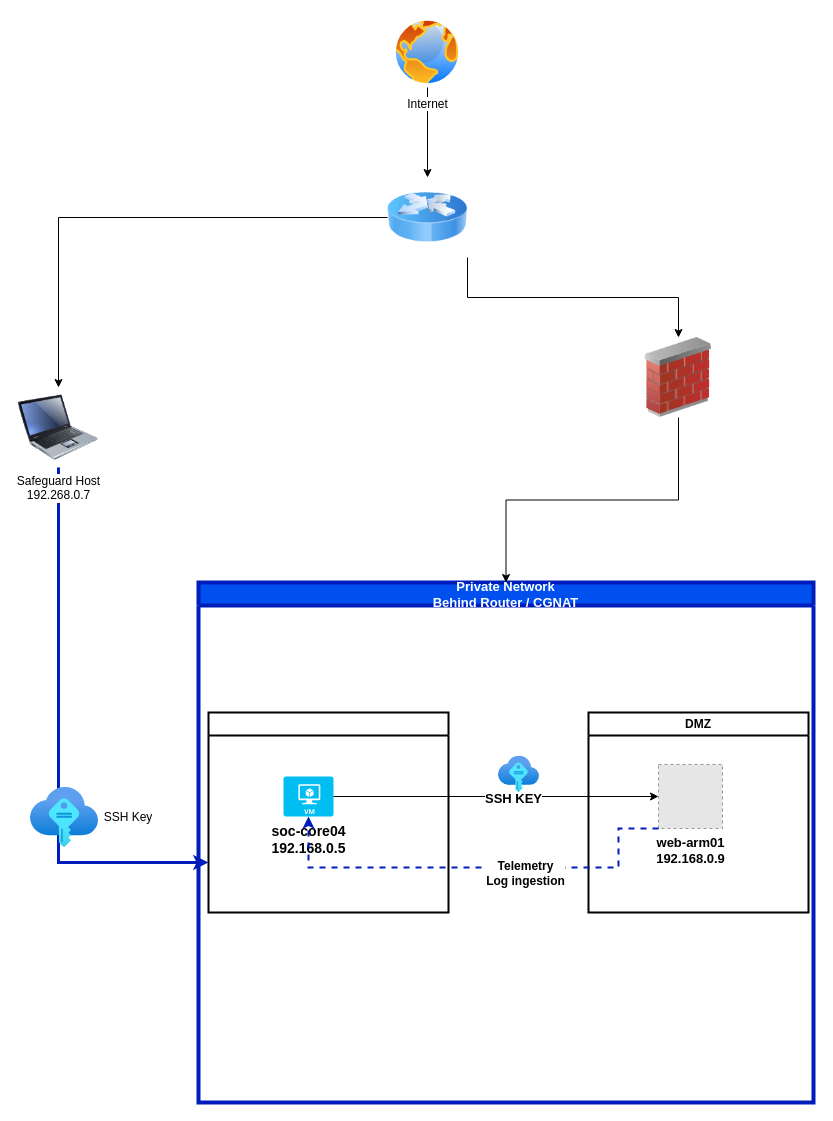
This 833x1121 diagram has some shape labels left out. Grey dashed boxes stand in for pictures. Each missing label, with the box of its shape:
Firewall/ Router VM sentry-gate01: (638, 337, 718, 417)
Internal: (207, 711, 449, 913)
Router: (387, 177, 467, 257)
